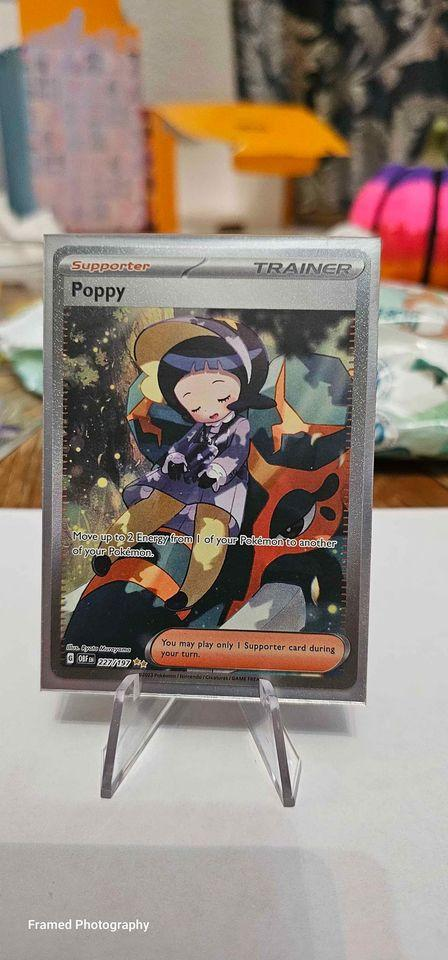card: (51, 244, 372, 690)
